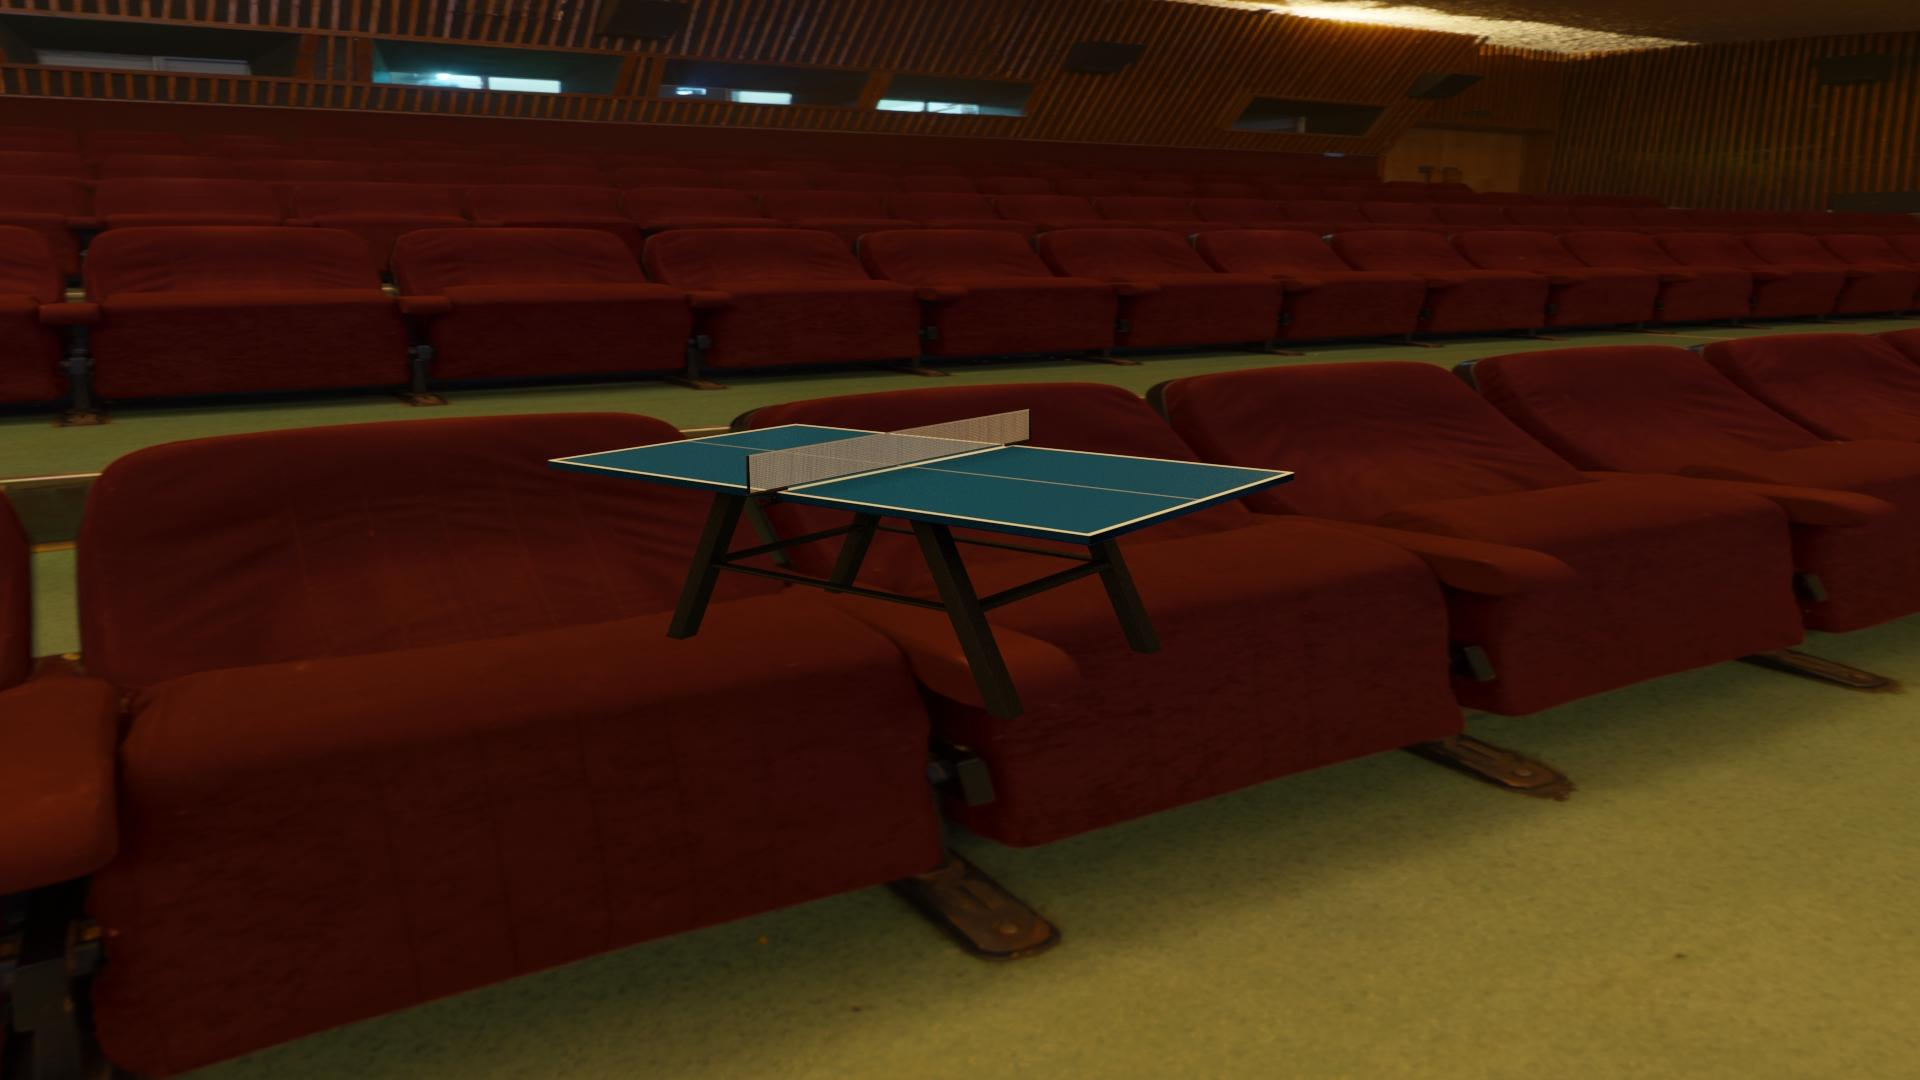table: (555, 425, 1287, 534)
